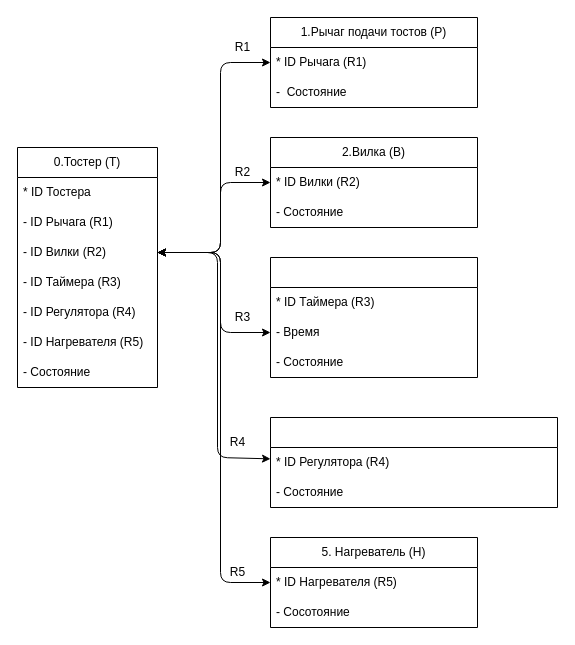
The diagram is 575 pixels wide and 645 high, and some of its shapes have lost their labels. The box of each missing label's shape, as (x1, y1, x2, y2) in pixels:
3. Таймер (Тм): (270, 256, 478, 378)
4. Регулятор интенсивности пропекания (Рг): (270, 416, 558, 508)
